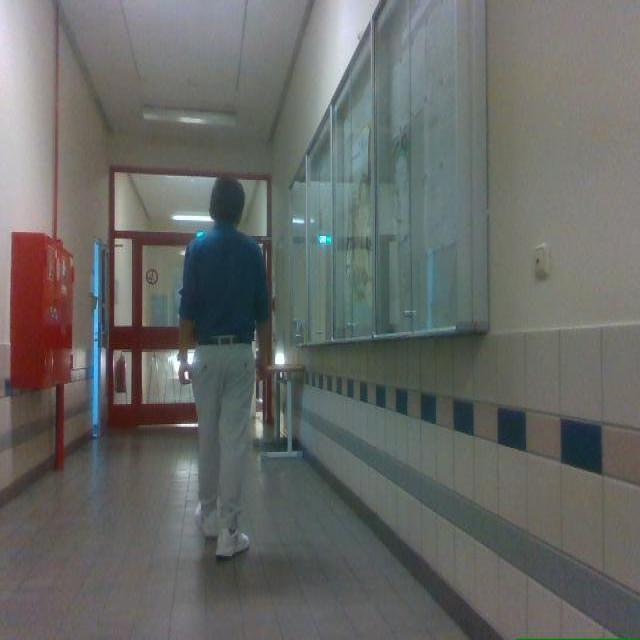humans: (178, 179, 269, 559)
